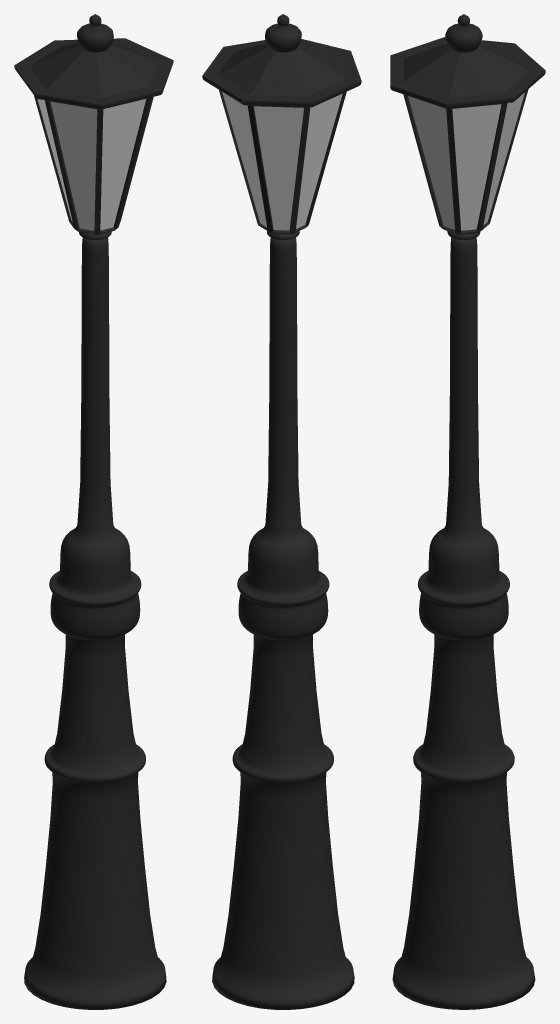
The model's file is lamp.fbx.
The picture shows the model from 3 angles, left to right: view 1: azimuth 30°, elevation 25°; view 2: azimuth 150°, elevation 25°; view 3: azimuth 270°, elevation 25°; orthographic projection.
Visible parts, largest first — view 1: Cylinder.002; view 2: Cylinder.002; view 3: Cylinder.002.
Boxes of the visible parts, bbox=[...] form: Cylinder.002: bbox=[14, 14, 173, 1009]; Cylinder.002: bbox=[202, 14, 361, 1009]; Cylinder.002: bbox=[390, 14, 545, 1009].
Size of the model in its own units: 62.16 by 415 by 60.6.
2 materials, 1 textured.
